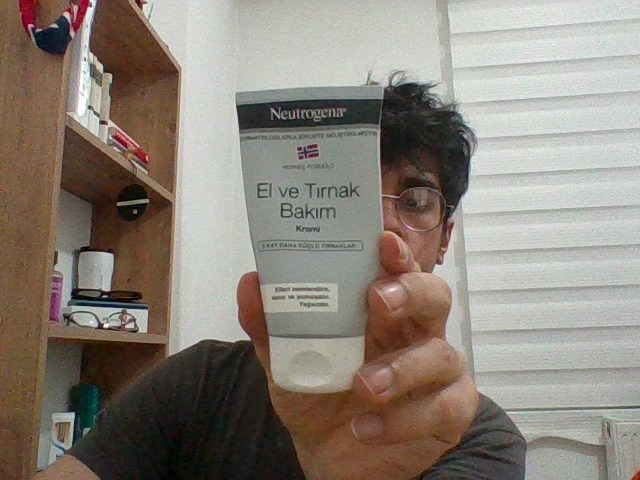Neutrogena: (236, 88, 387, 391)
